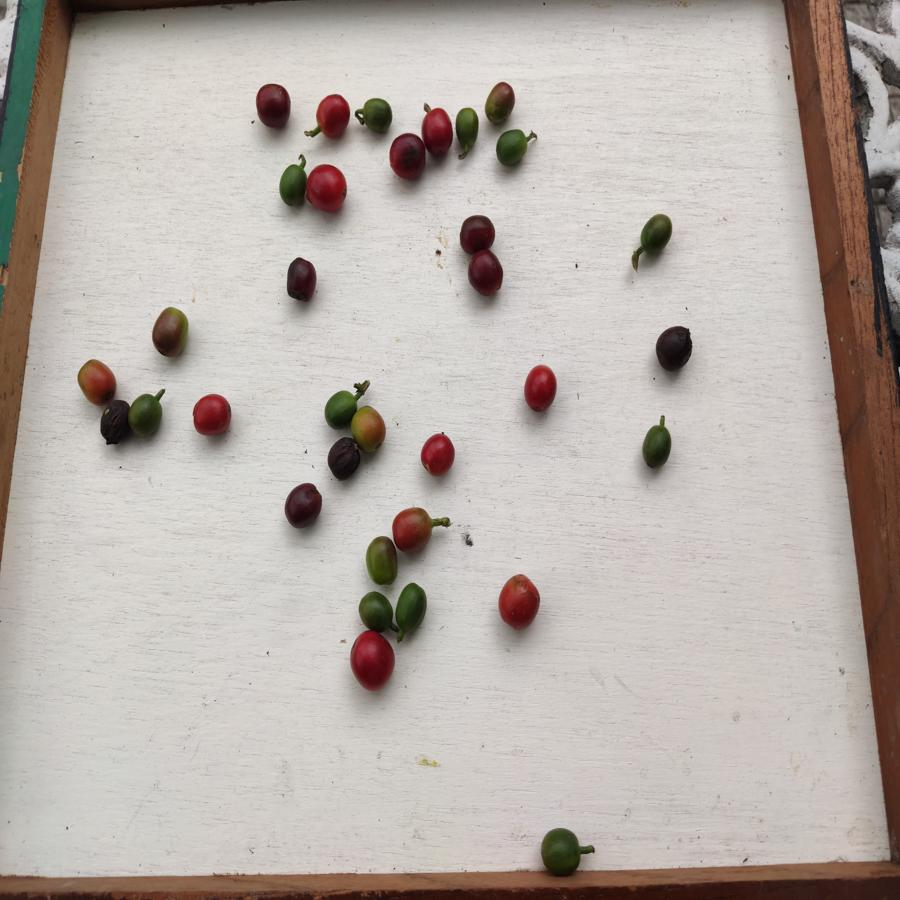Inmaduro: (539, 824, 584, 877), (392, 582, 431, 635), (634, 209, 676, 256), (126, 391, 164, 439), (638, 423, 673, 469), (356, 591, 394, 633), (364, 538, 397, 584), (275, 161, 307, 208), (453, 105, 483, 153), (358, 97, 393, 136), (494, 129, 529, 166), (324, 389, 354, 429)
Maduro: (494, 570, 545, 633), (352, 629, 396, 689), (307, 163, 351, 215), (189, 394, 237, 441), (391, 506, 434, 555), (523, 361, 559, 417), (312, 94, 353, 141), (418, 431, 455, 479), (423, 110, 453, 158)
Pinton: (146, 307, 195, 365), (74, 359, 117, 403), (354, 404, 388, 455)
Sobremaduro: (281, 480, 325, 536), (653, 324, 696, 377), (254, 83, 294, 133), (386, 134, 428, 180), (466, 249, 505, 296), (285, 255, 319, 304), (99, 399, 129, 449), (458, 214, 496, 253), (326, 437, 359, 481)
